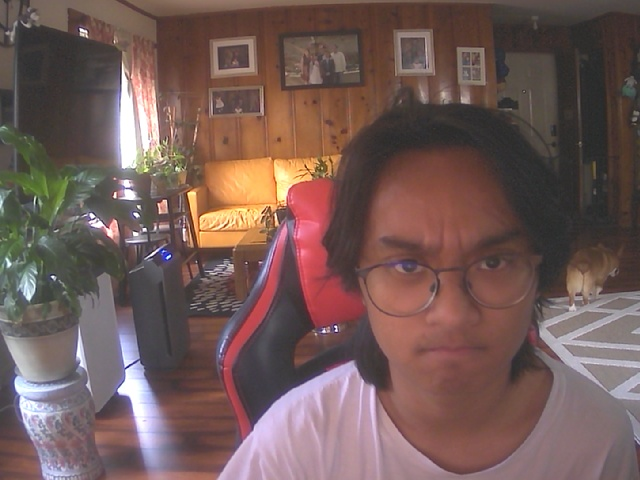anger: (349, 117, 553, 405)
